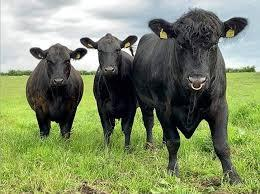cow: (133, 9, 247, 185), (80, 33, 155, 159), (26, 42, 88, 141)
